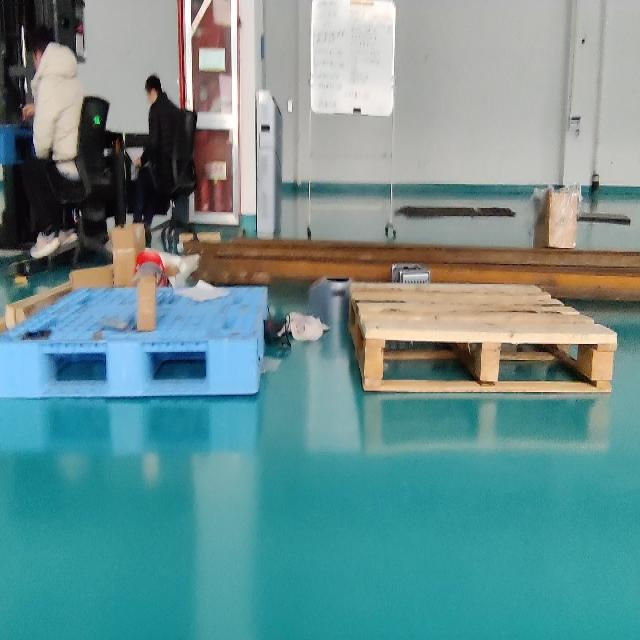euro: (349, 284, 619, 399)
